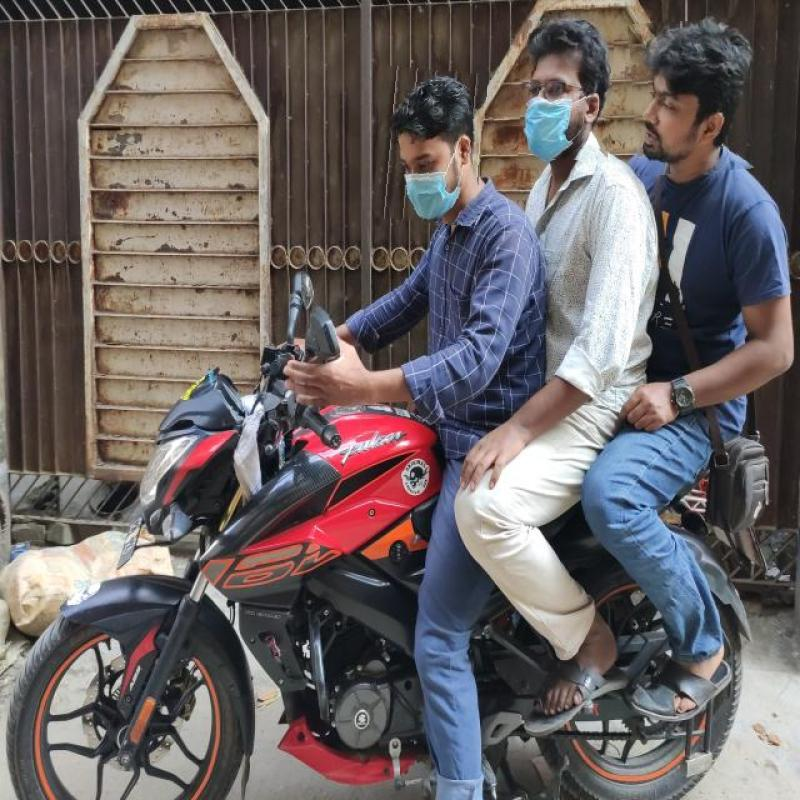nohelmet: (630, 19, 752, 175), (376, 67, 485, 224), (520, 21, 614, 160)
